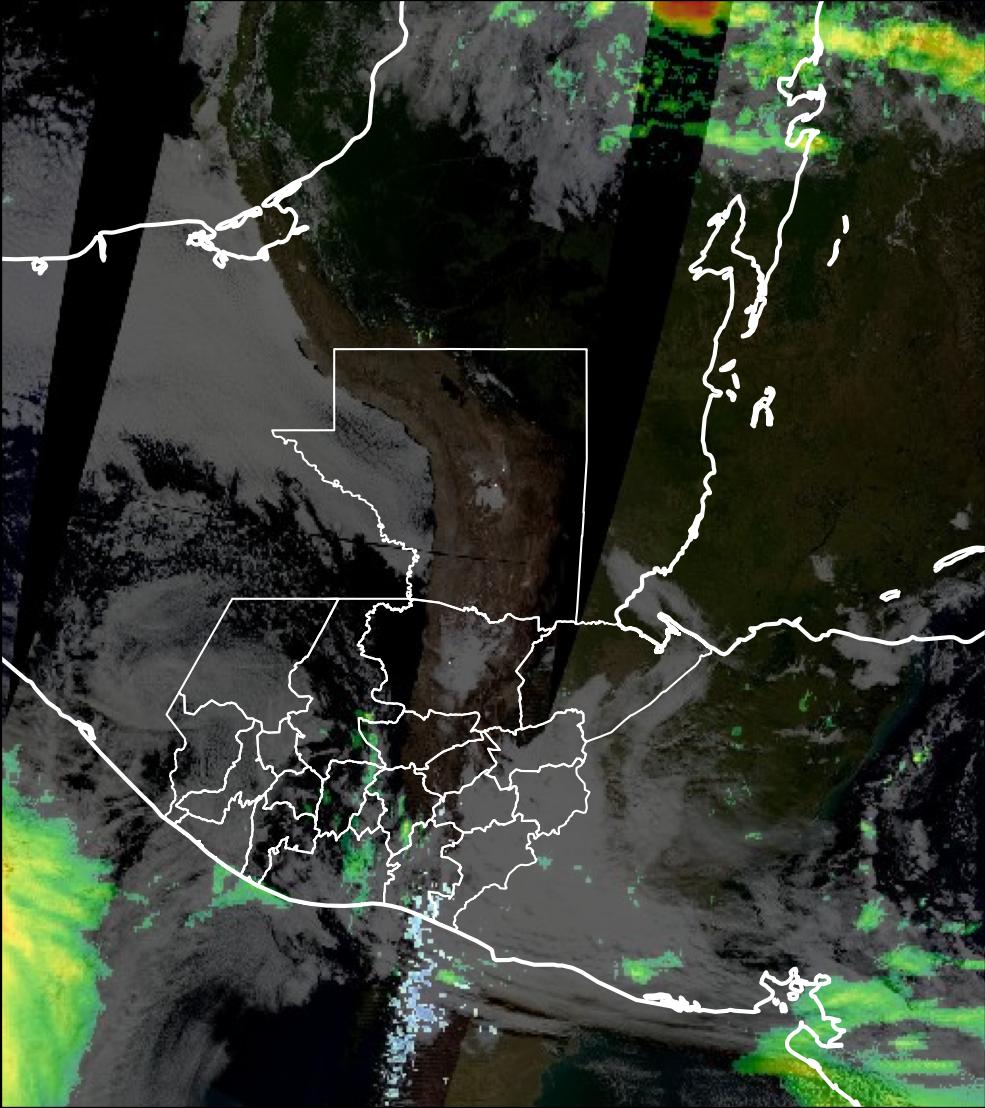precipitacion: (636, 1, 734, 40)
